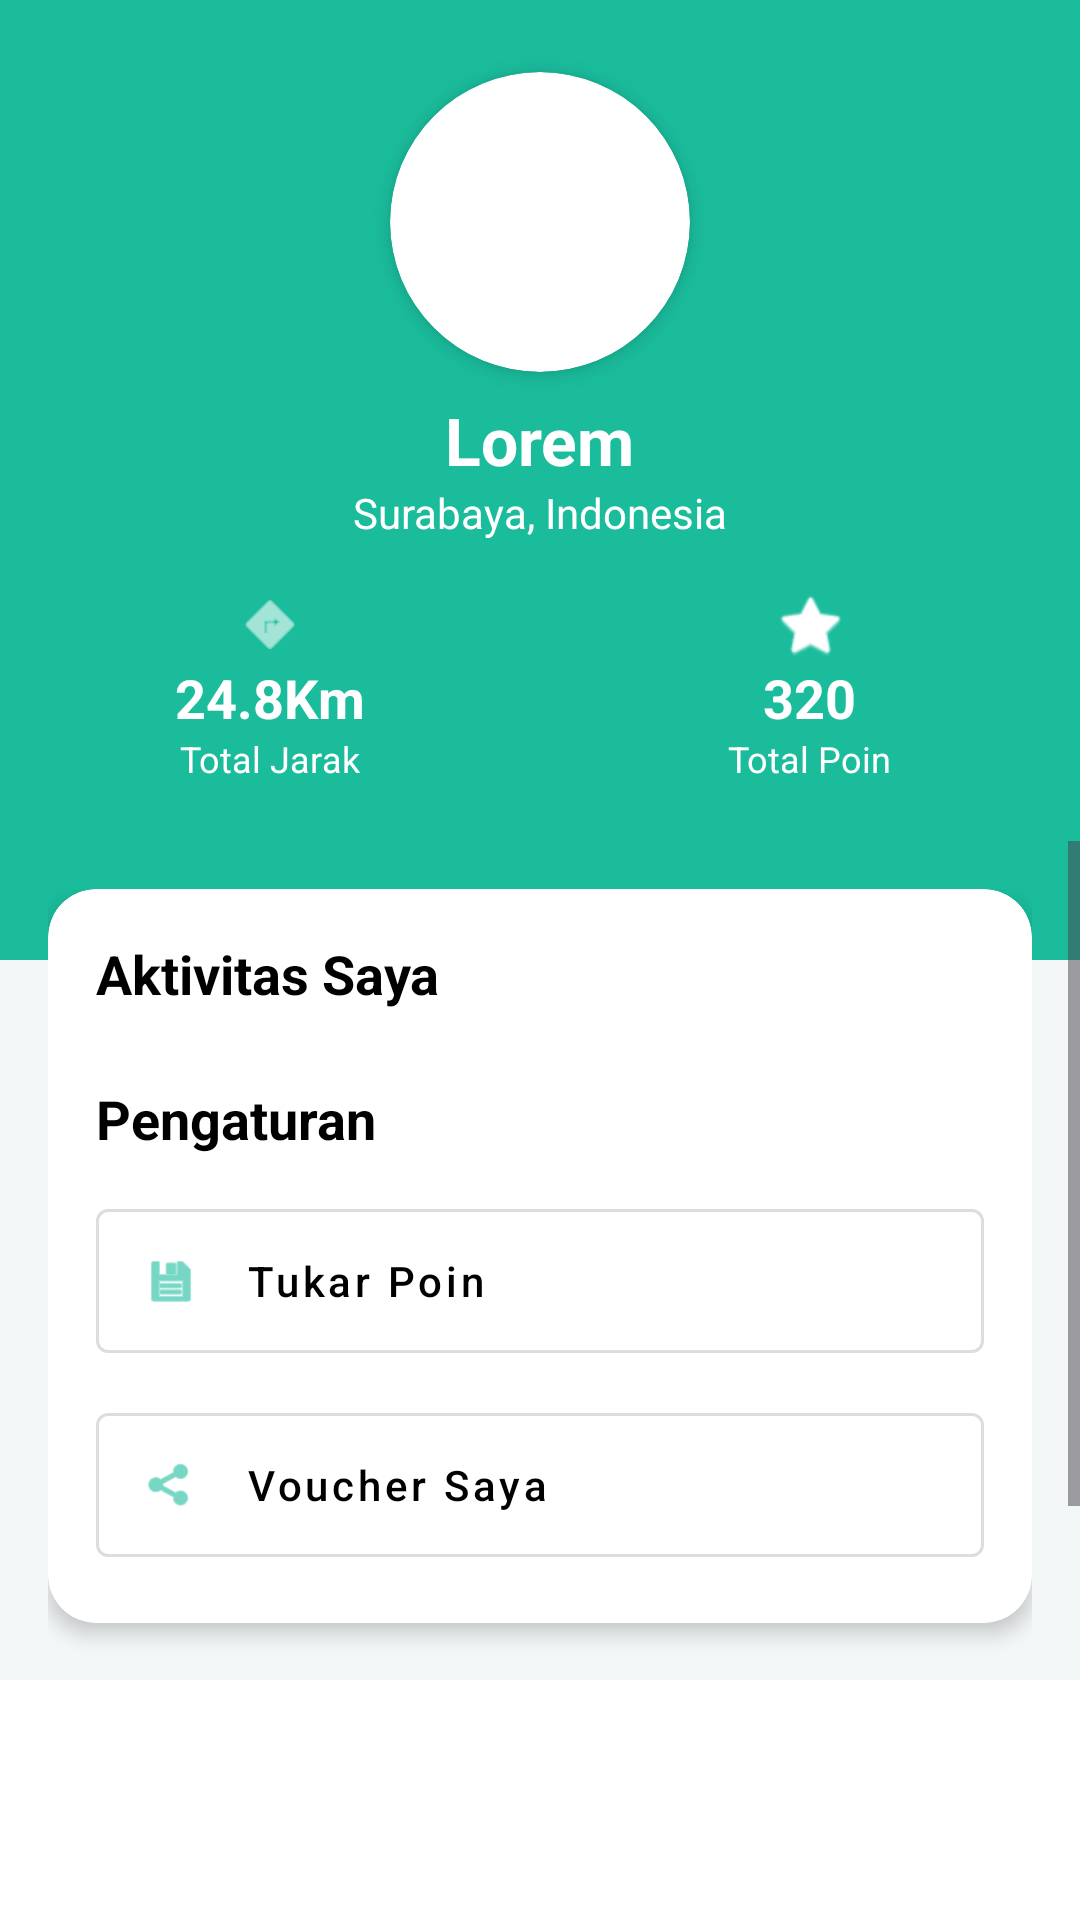

Icons on this 1080x1920 Android screen, each with the point to tap as point (x, y):
directions: point (270, 624)
star on: point (811, 625)
